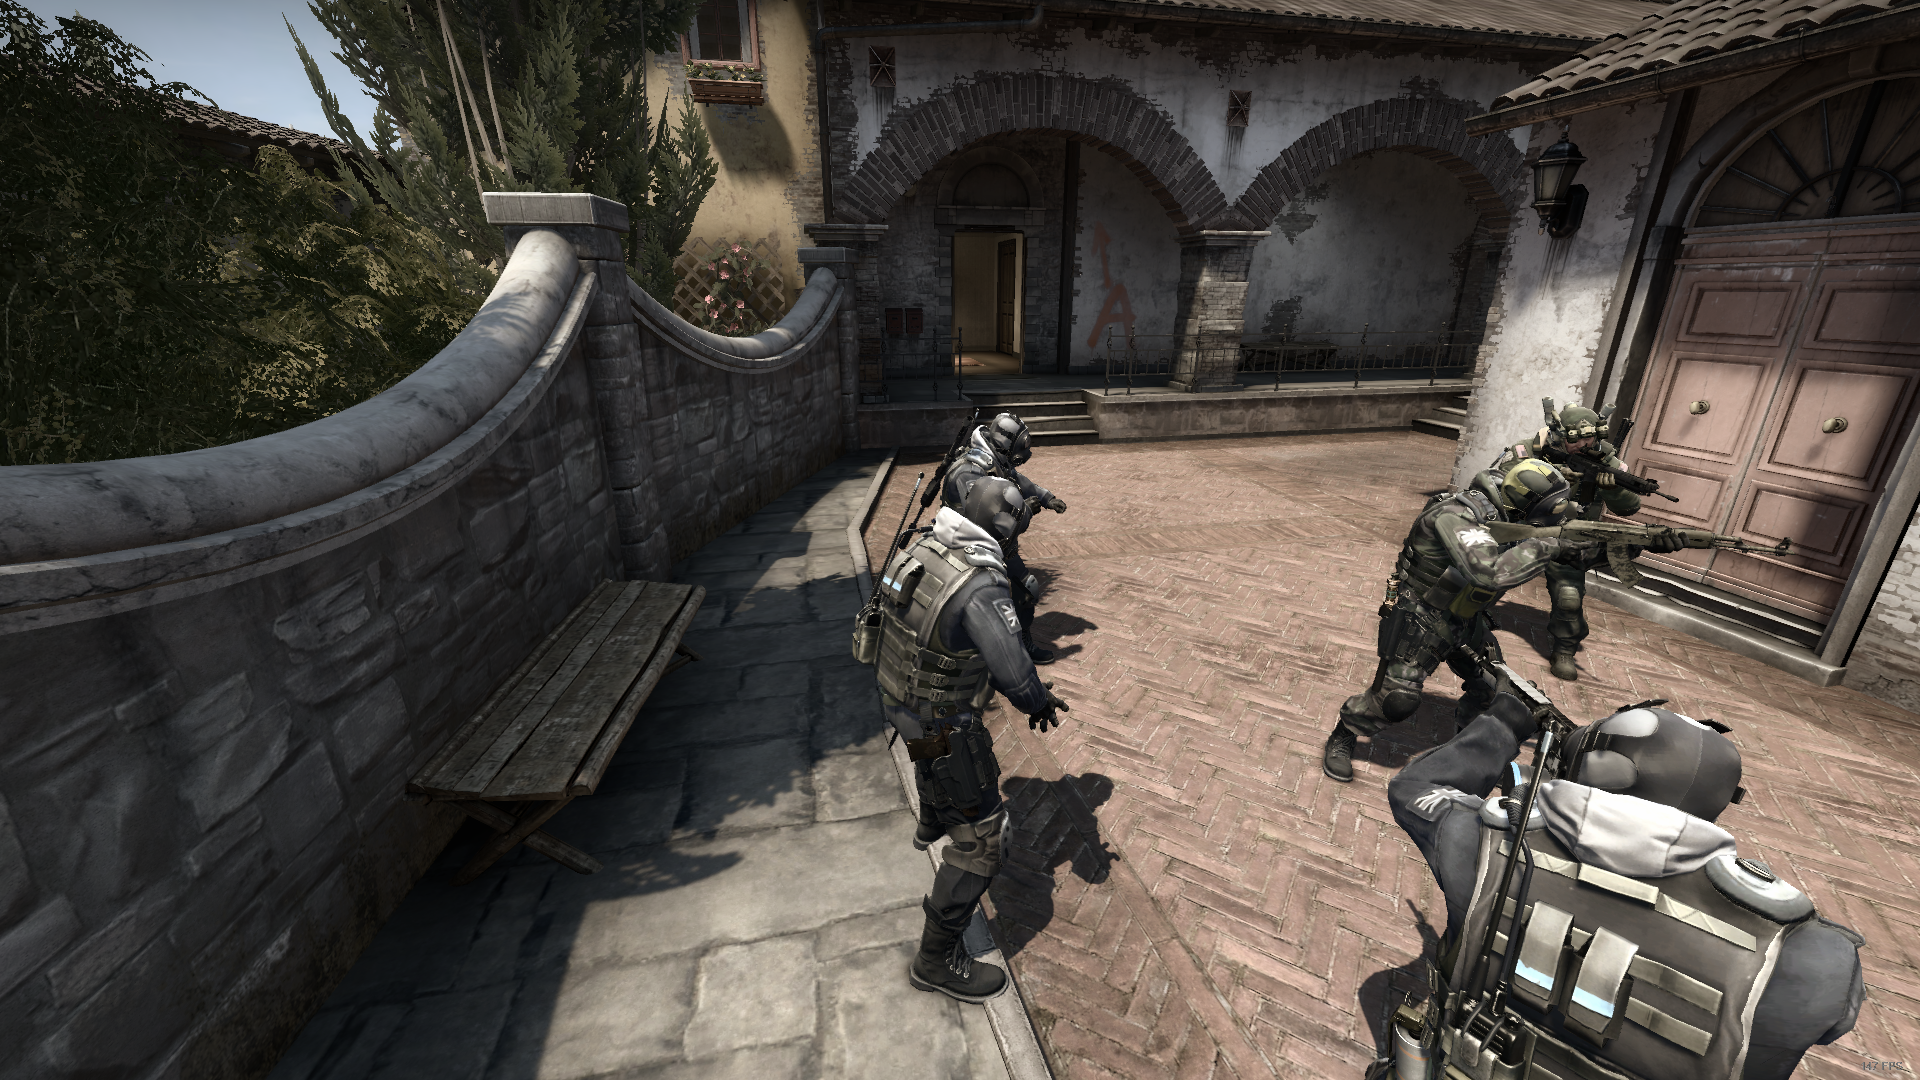ct: (1352, 663, 1886, 1080), (853, 469, 1077, 1007)
